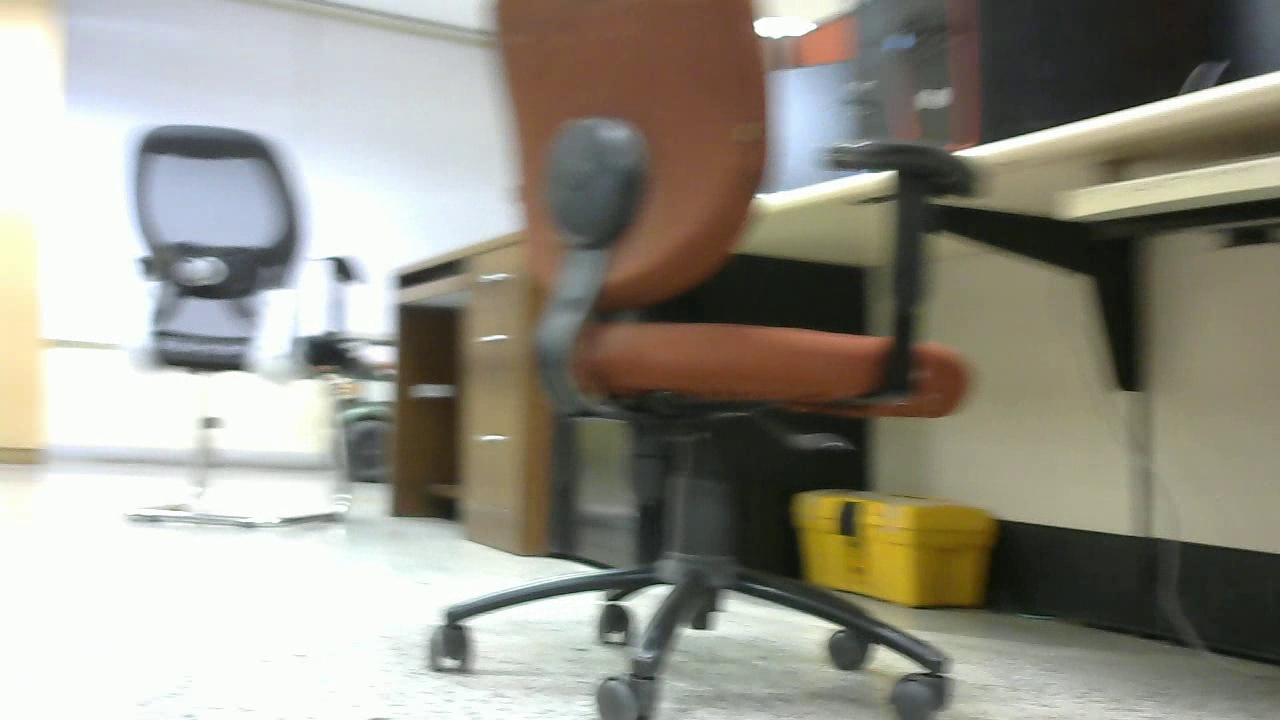chair: (414, 1, 986, 720), (98, 113, 385, 552)
